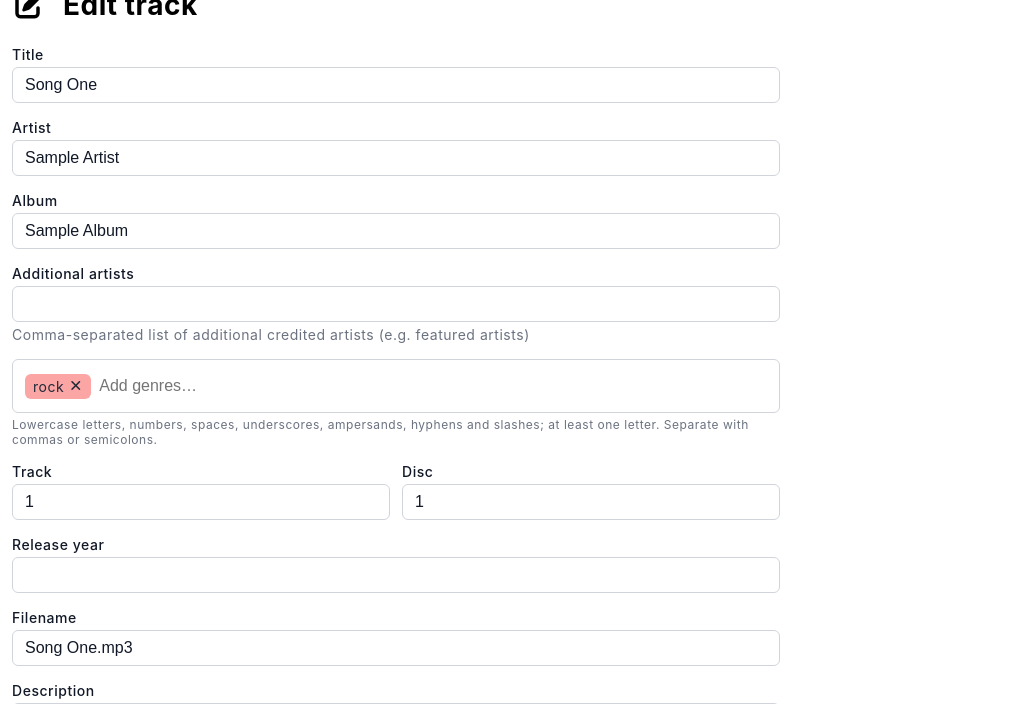
Test: TrackEditView › surfaces save errors inline
Replace the text in the field labelled "Title" with "Song One Updated" at (396, 85), box [12,67,780,103]
(page scrolled)
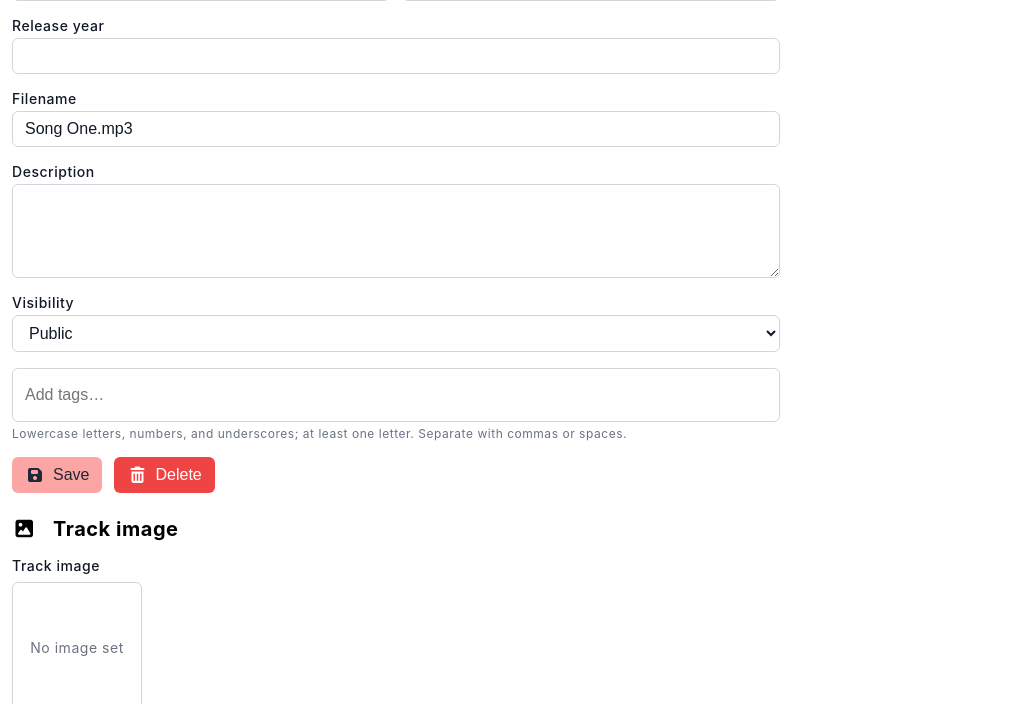
Click the button "Save" at (57, 475), box [12,457,102,493]
(page scrolled)
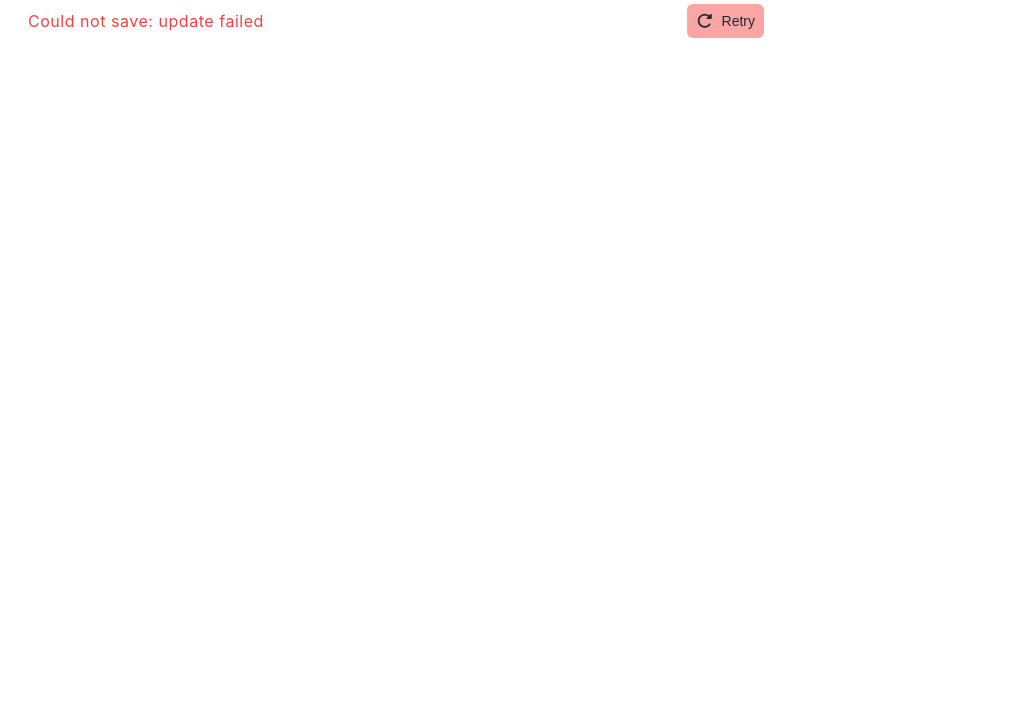
Expected: the text "update failed" is shown, [28,11,264,31]
